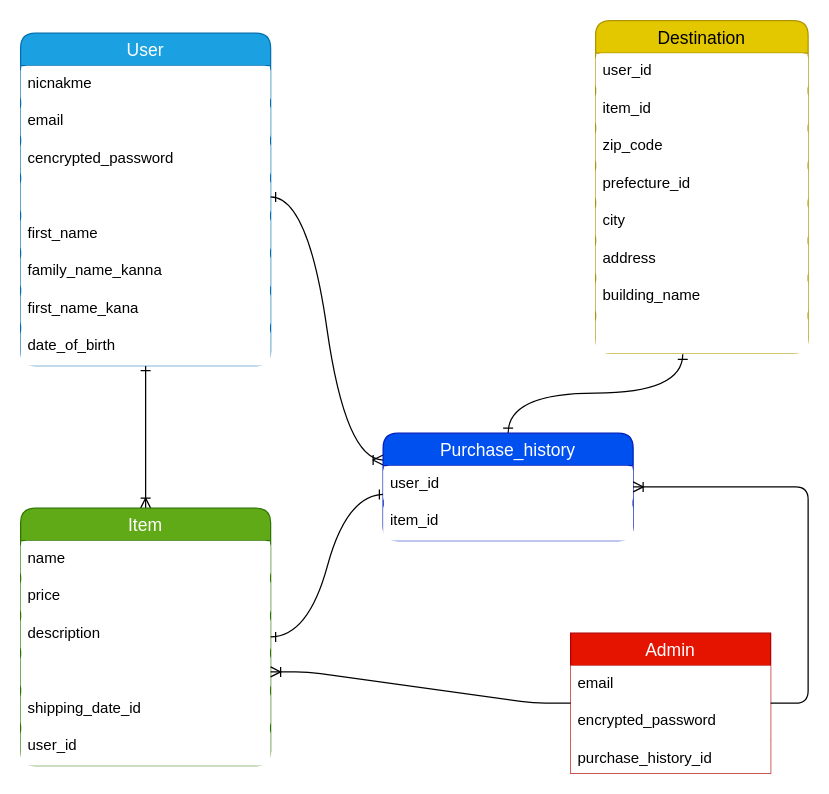
Image size: 829x794. Some labels were removed from this diagram. The shapes that lost their labels are listed below. From the top down, each one's centre as x and y in pixels, then its label:
the point at 145,196: family_name
the point at 701,333: phone_number
the point at 145,671: category_id
